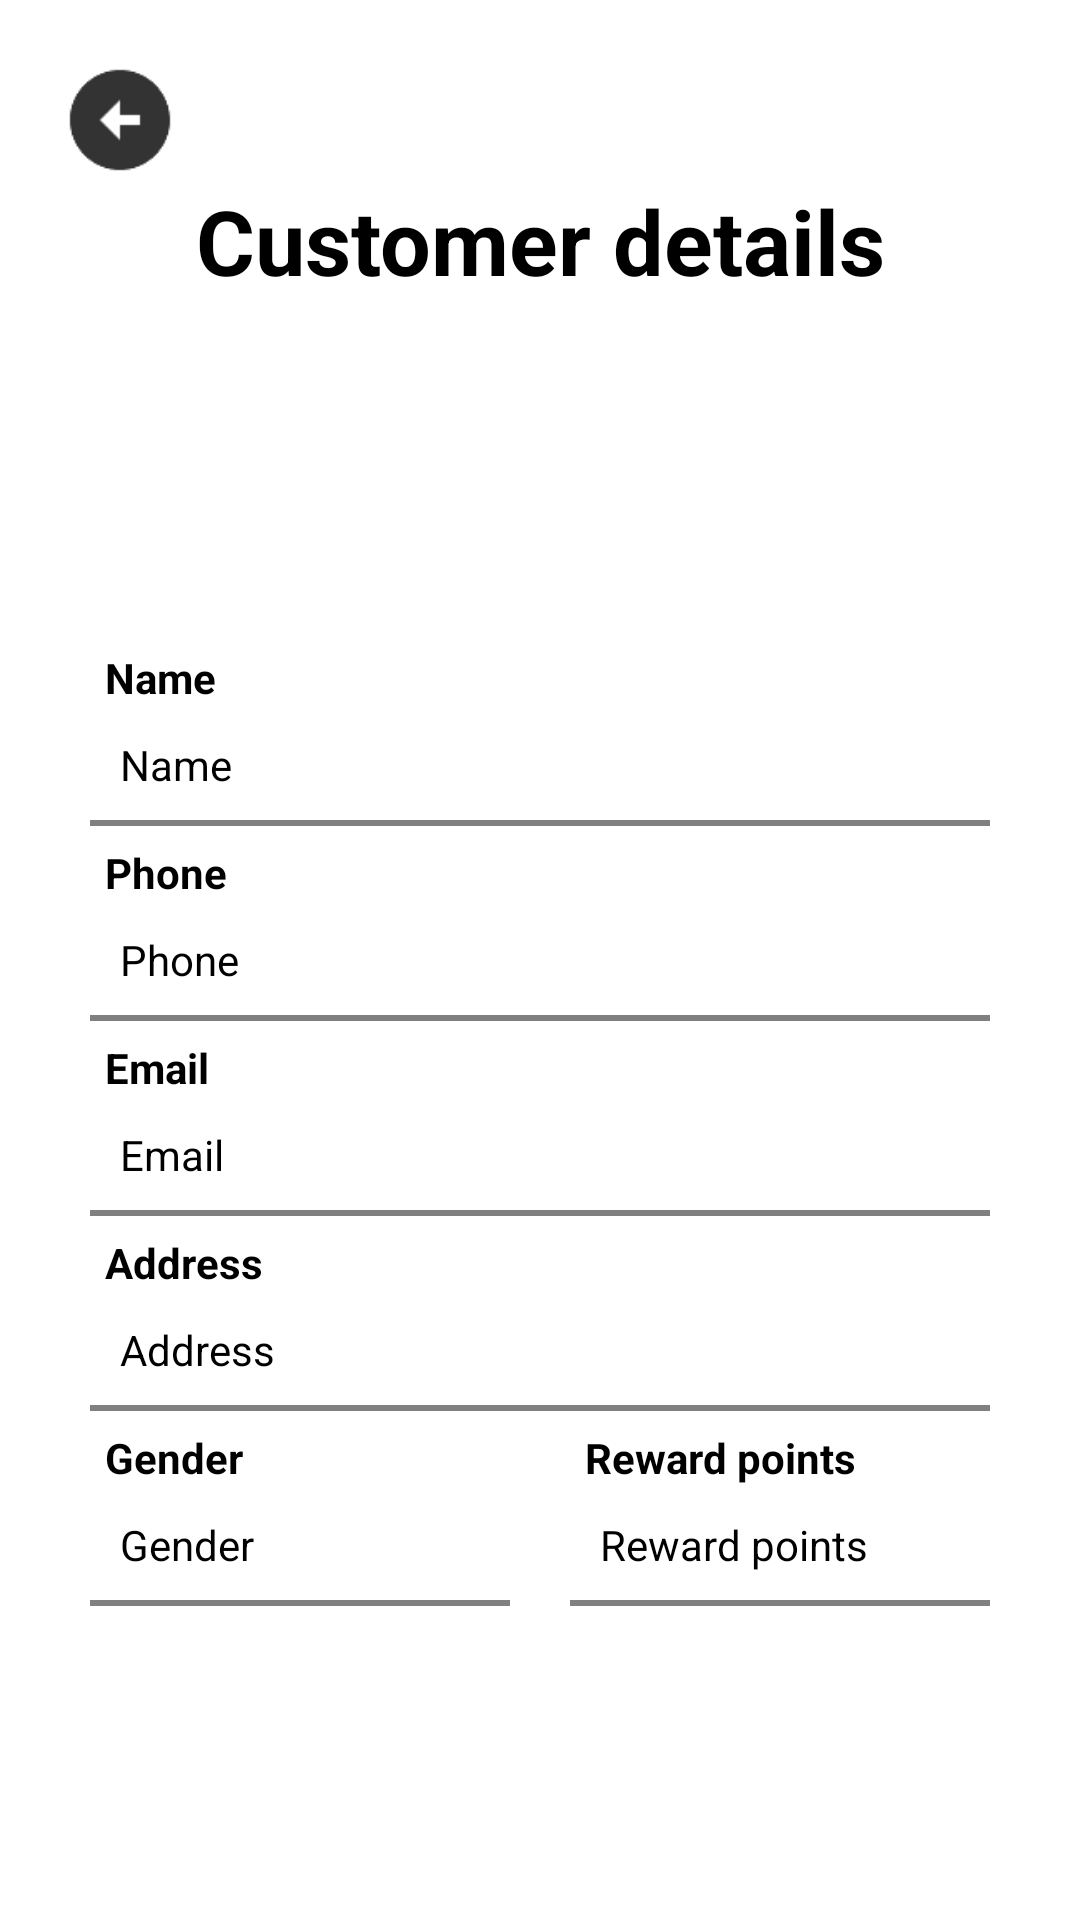

Named icons in this screenshot (1080px×1920px) and their centers, (x=x, y=y):
back: (x=120, y=120)
